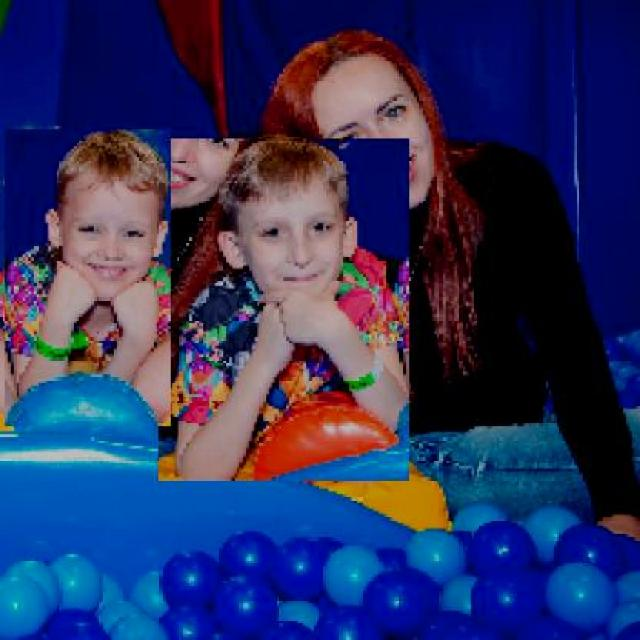child: (157, 138, 409, 482), (3, 128, 171, 428)
